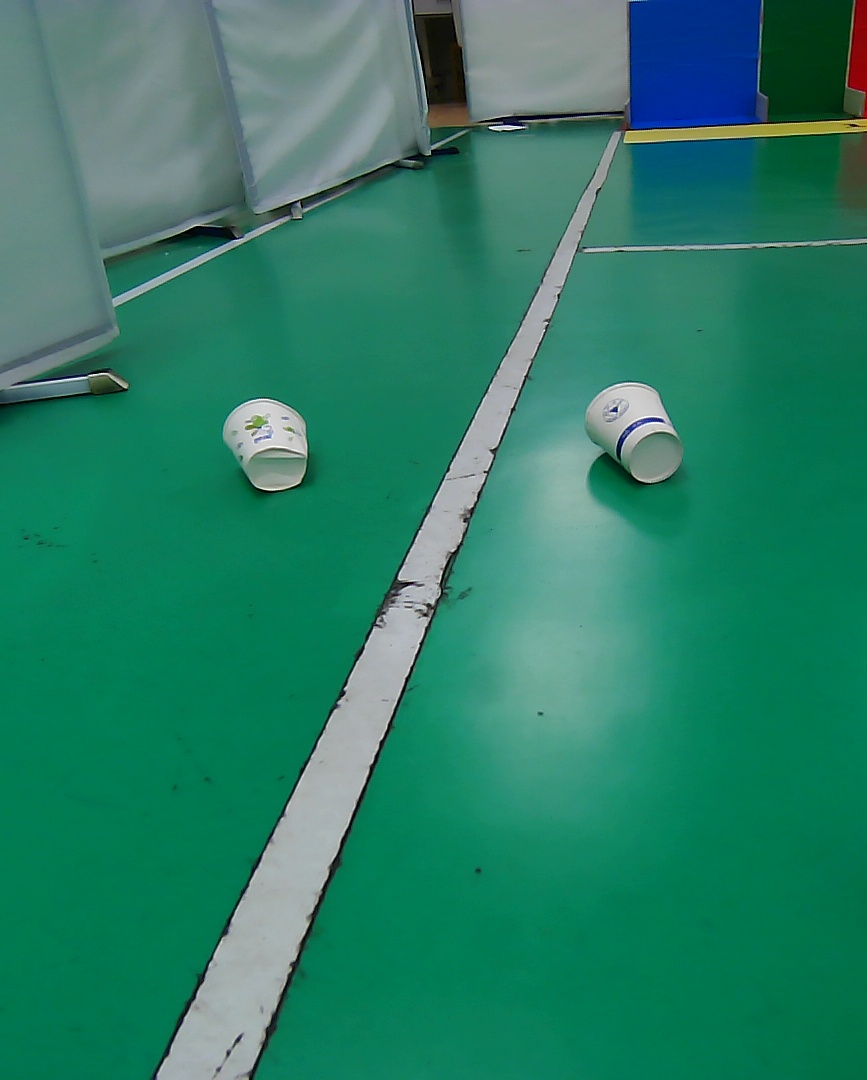papercup: (581, 379, 686, 486), (218, 392, 311, 494)
